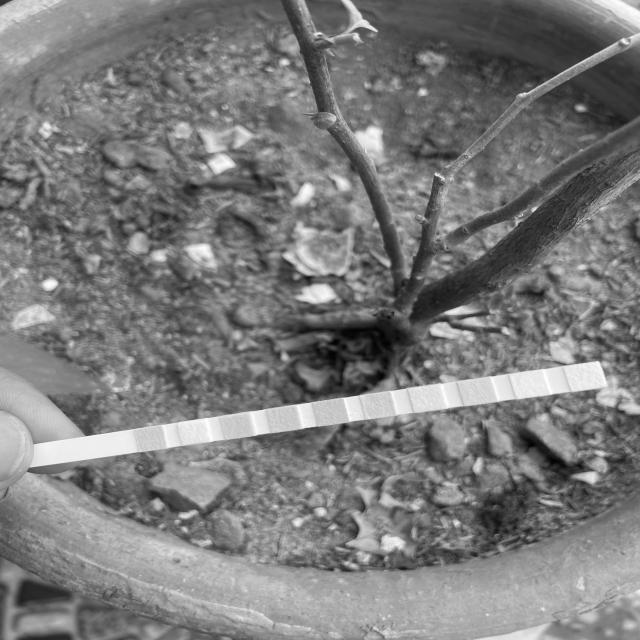Bilirubin: (182, 422, 207, 442)
Blood: (318, 401, 344, 423)
Glucose: (138, 428, 164, 449)
Ketone: (225, 415, 252, 437)
Leukocytes: (570, 365, 600, 388)
Nitrite: (514, 374, 544, 396)
Protein: (414, 388, 441, 410)
SpGravity: (272, 408, 298, 430)
Urobilinogen: (462, 381, 492, 402)
background: (0, 0, 640, 640)
pH: (365, 394, 392, 416)
strip: (39, 361, 608, 466)
